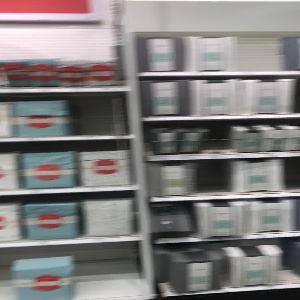void: (78, 243, 150, 296), (70, 93, 130, 137), (235, 30, 295, 73), (192, 159, 234, 192), (204, 126, 232, 158)
